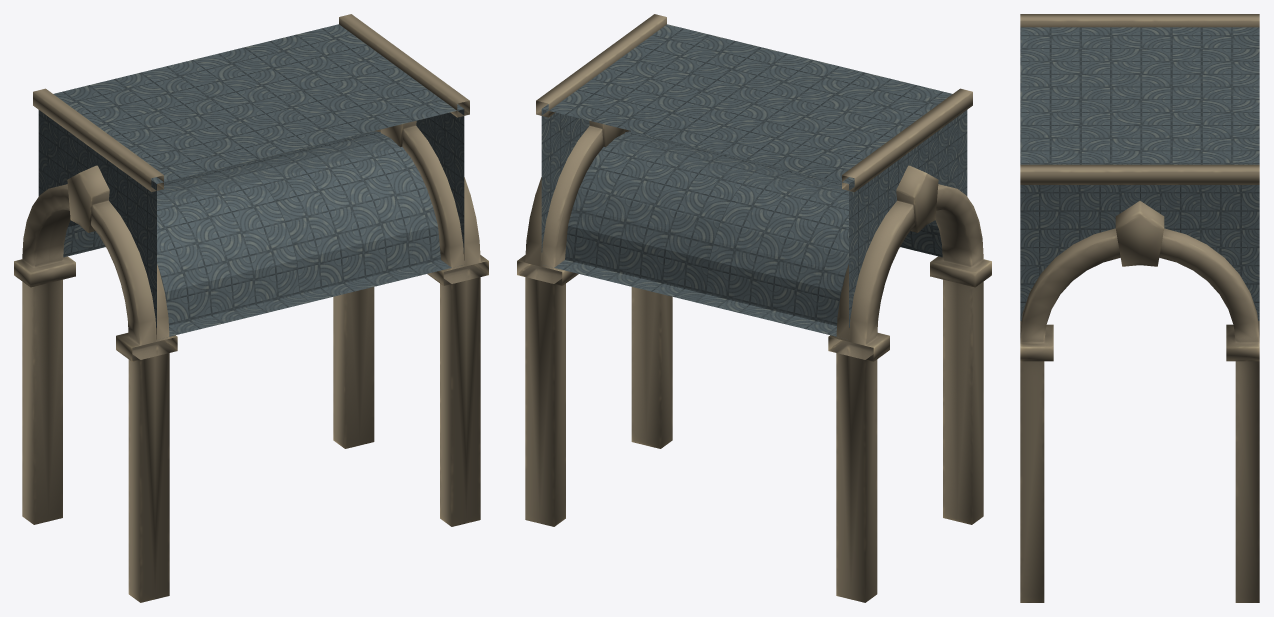
The model's file is ProjectRG_Environment_RuinsAqueduct_Walk.fbx.
3 views of the same model, side by side, from view 1: azimuth 30°, elevation 25°; view 2: azimuth 150°, elevation 25°; view 3: azimuth 270°, elevation 25° (orthographic).
Visible parts, largest first — view 1: ProjectRG_Environment_RuinsAqueduct_Walk; view 2: ProjectRG_Environment_RuinsAqueduct_Walk; view 3: ProjectRG_Environment_RuinsAqueduct_Walk.
Part boxes in pixels (<box>): ProjectRG_Environment_RuinsAqueduct_Walk: <box>14,14,488,602</box>; ProjectRG_Environment_RuinsAqueduct_Walk: <box>517,14,991,602</box>; ProjectRG_Environment_RuinsAqueduct_Walk: <box>1020,14,1259,602</box>.
Size of the model in its own units: 3478 by 3935 by 2000.
